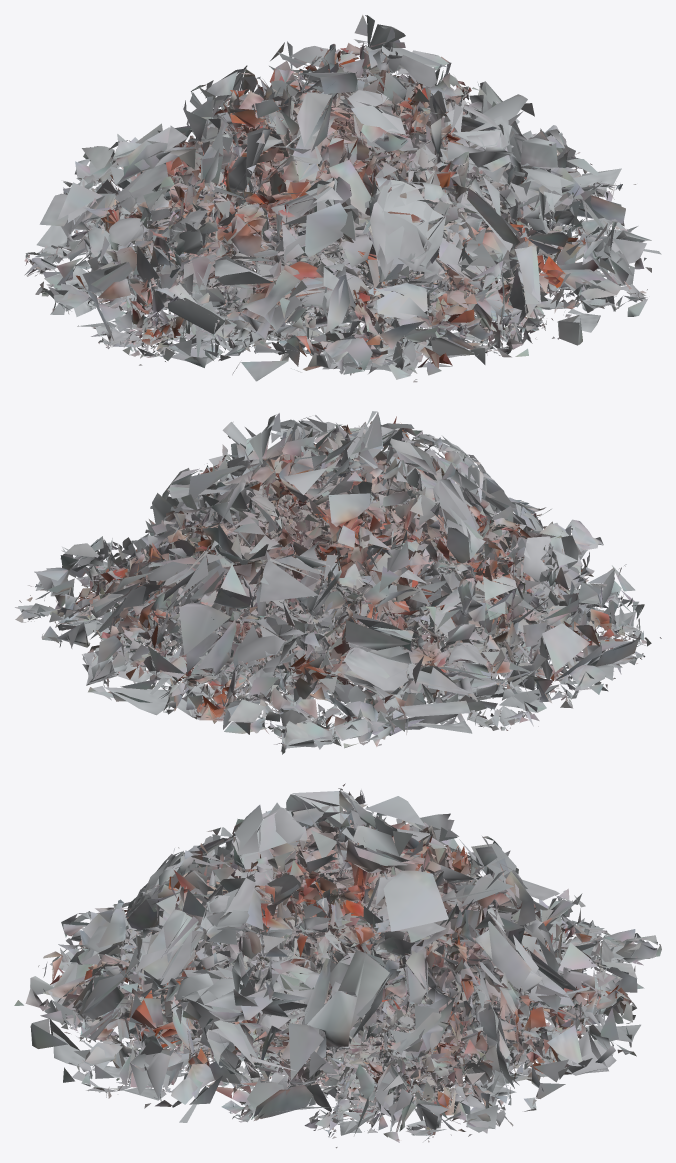
The model's file is moloz_yigini.glb.
3 views of the same model, one above another, from view 1: azimuth 30°, elevation 25°; view 2: azimuth 150°, elevation 25°; view 3: azimuth 270°, elevation 25° (orthographic). The views are drawn at different scales.
Parts seen in each view (by area): view 1: moloz_yigini; view 2: moloz_yigini; view 3: moloz_yigini.
Boxes of the visible parts, x1,y1,x2,y2 form: moloz_yigini: (24,15,661,382); moloz_yigini: (15,411,661,754); moloz_yigini: (14,783,661,1148).
Size of the model in its own units: 2.97 by 1.06 by 2.85.
1 material, 1 textured.
